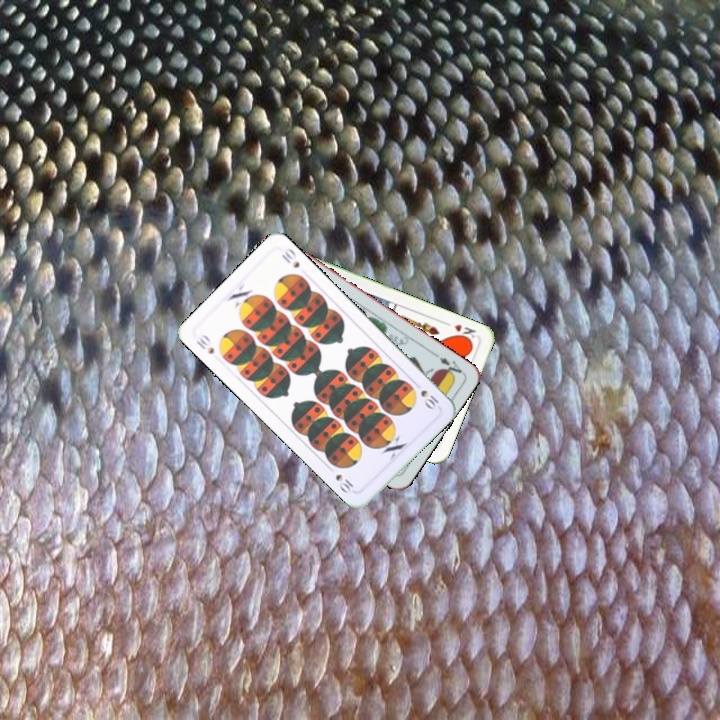EA: (429, 349, 465, 380)
HK: (440, 317, 478, 344)
S10: (410, 378, 443, 413), (192, 330, 217, 357)
